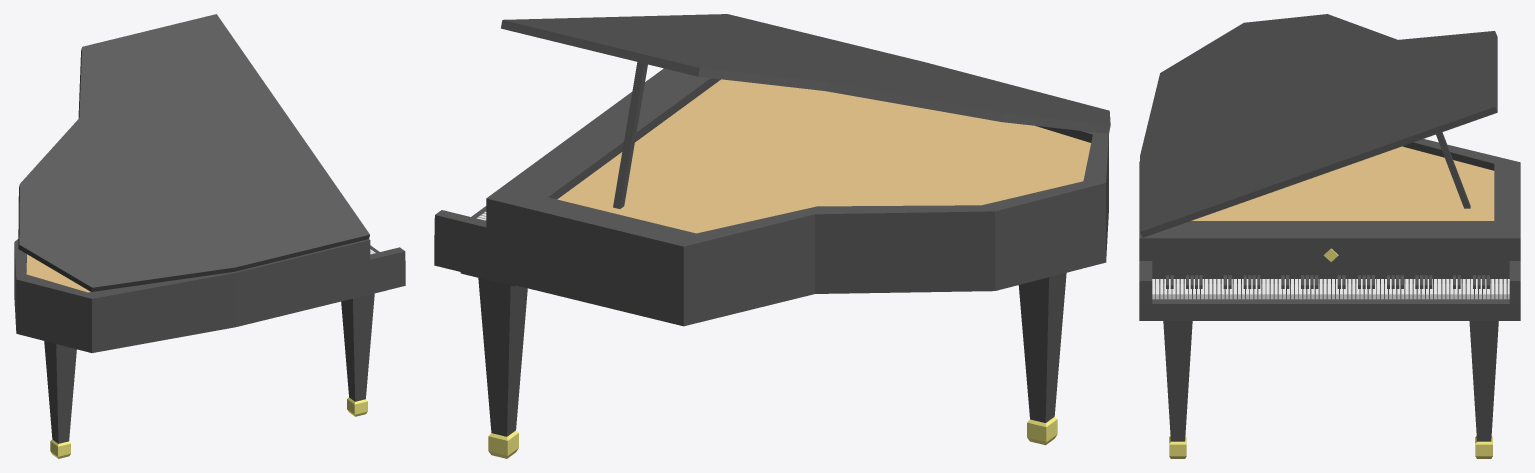
File: Piano.glb
The picture shows the model from 3 angles, left to right: view 1: azimuth 30°, elevation 25°; view 2: azimuth 150°, elevation 25°; view 3: azimuth 270°, elevation 25°; orthographic projection. The views are drawn at different scales.
Visible parts, largest first — view 1: node-0; view 2: node-0; view 3: node-0.
Boxes of the visible parts, <box> form: node-0: <box>14,14,405,458</box>; node-0: <box>434,14,1110,458</box>; node-0: <box>1139,14,1520,458</box>.
Size of the model in its own units: 12.68 by 10.65 by 10.6.
